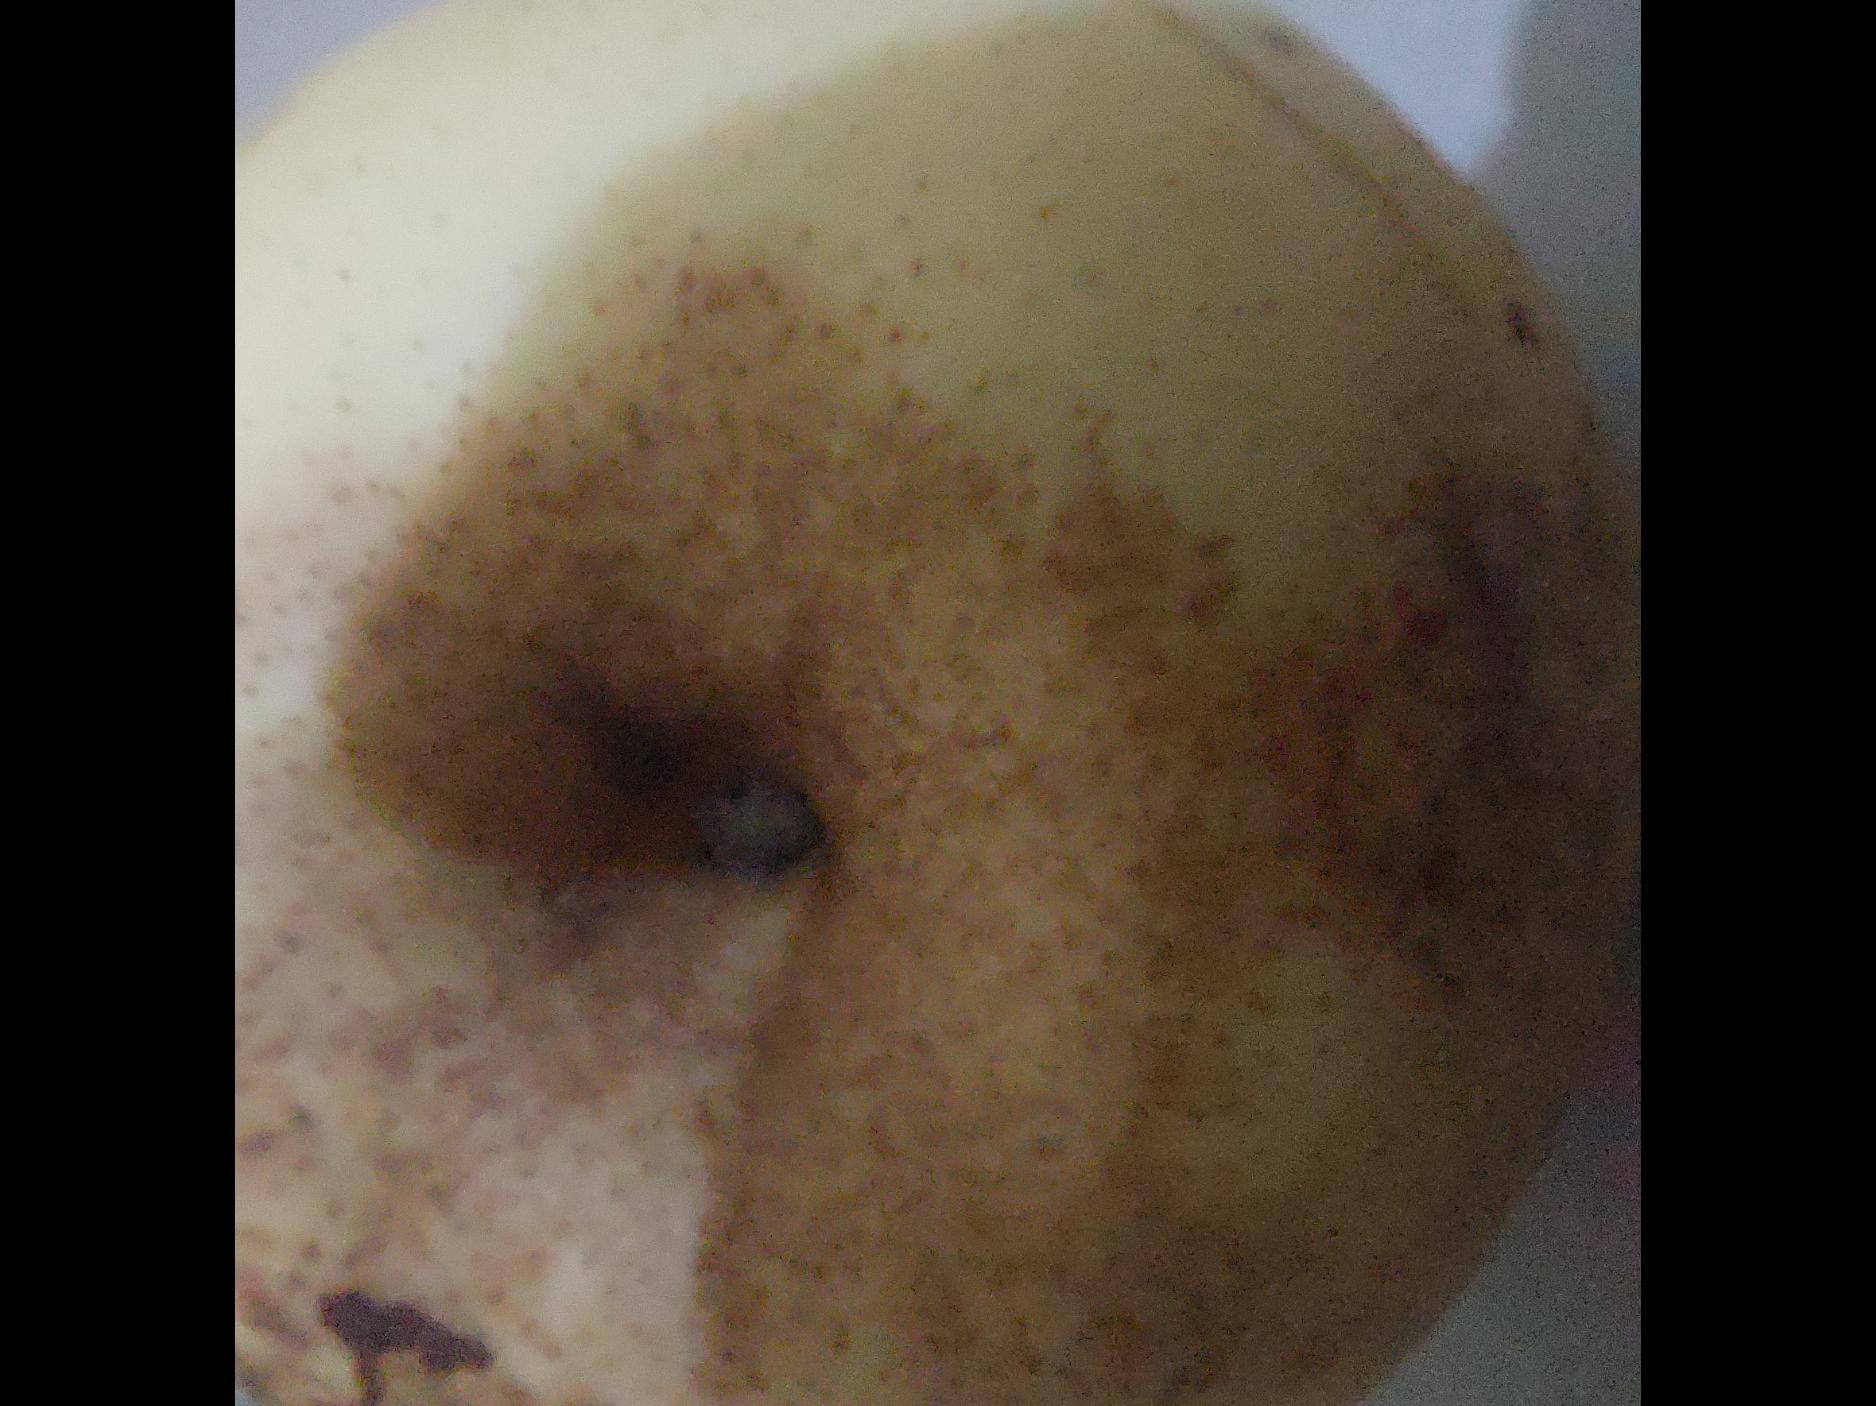Bad Pear: (235, 0, 1626, 1406)
